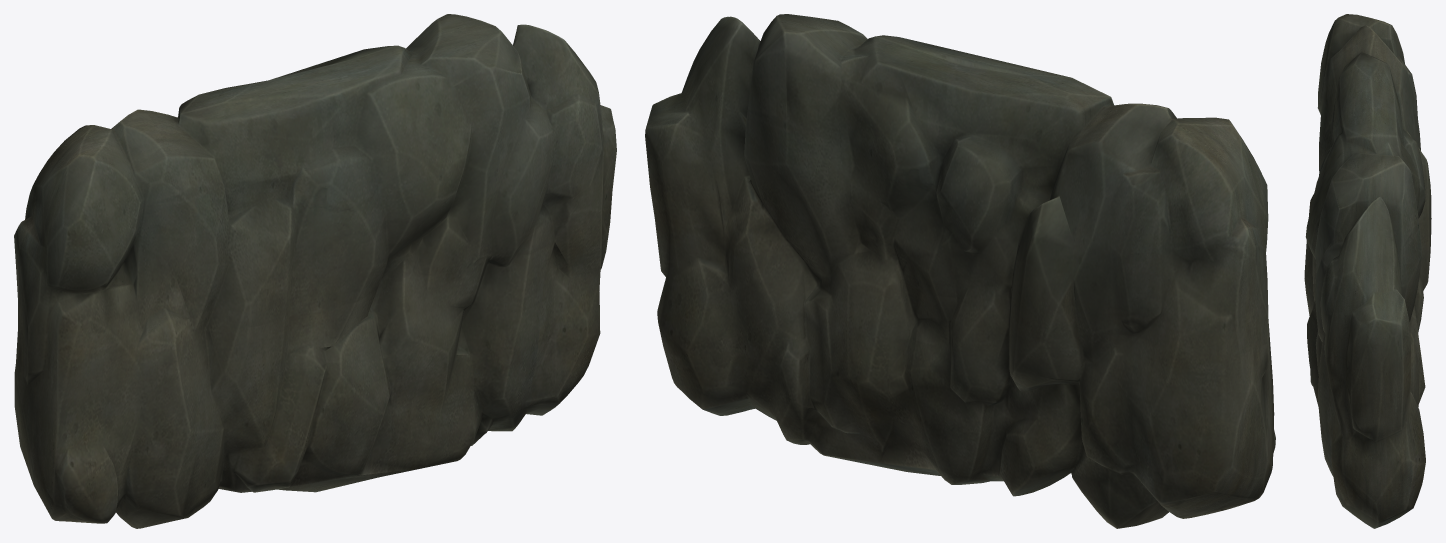
File: cliffWall_small_1a.fbx
The picture shows the model from 3 angles, left to right: view 1: azimuth 30°, elevation 25°; view 2: azimuth 150°, elevation 25°; view 3: azimuth 270°, elevation 25°; orthographic projection. The views are drawn at different scales.
Visible parts, largest first — view 1: highCliff_lowp1a; view 2: highCliff_lowp1a; view 3: highCliff_lowp1a.
Part boxes in pixels (bbox=[...]): highCliff_lowp1a: bbox=[14, 14, 616, 528]; highCliff_lowp1a: bbox=[645, 14, 1275, 528]; highCliff_lowp1a: bbox=[1304, 14, 1431, 528].
Size of the model in its own units: 923 by 629 by 207.
